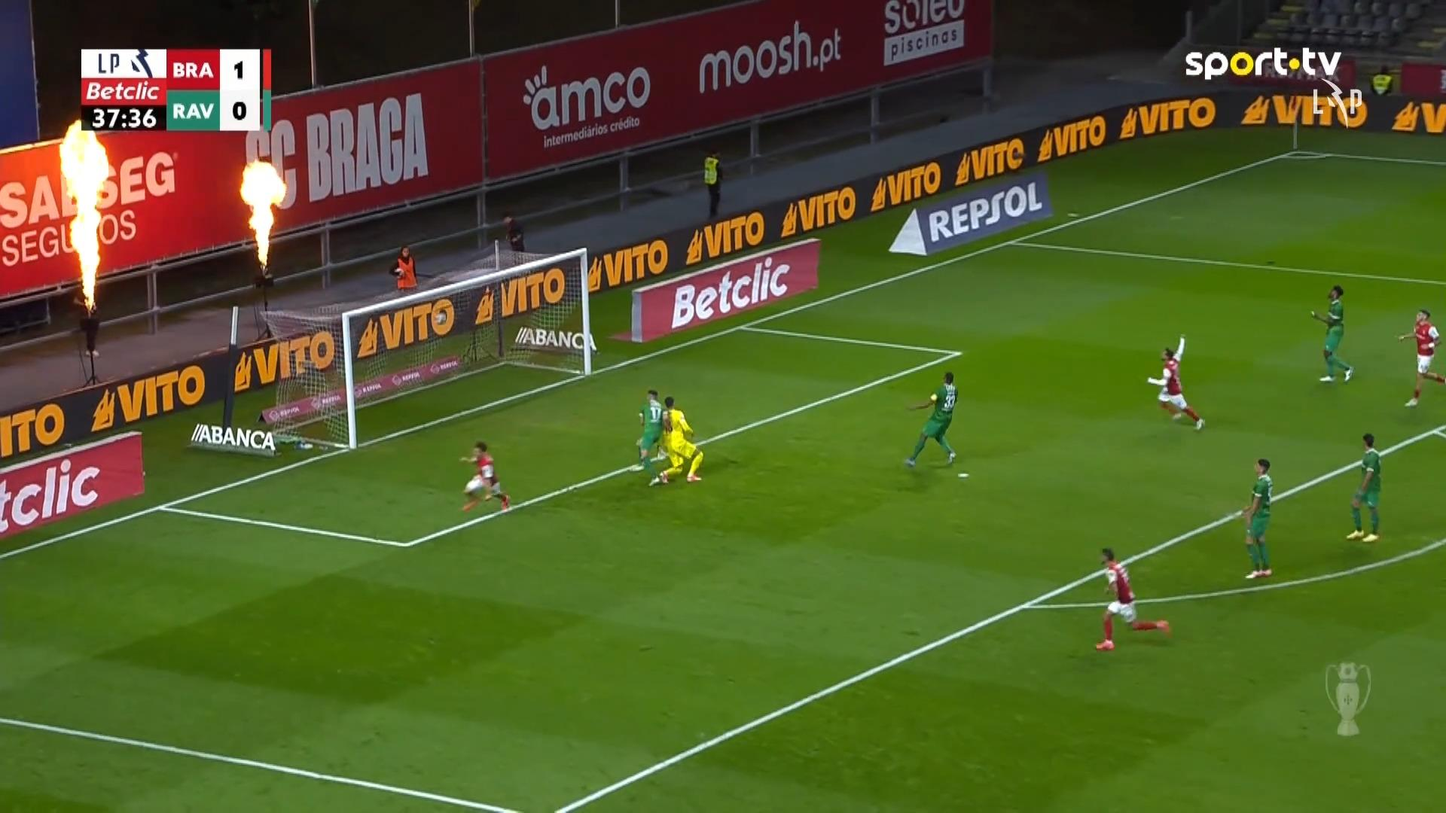ball: (435, 312, 447, 325)
goalkeeper: (650, 395, 703, 485)
player: (1094, 547, 1170, 651), (1146, 336, 1205, 431), (904, 370, 958, 467), (1396, 309, 1444, 406), (1309, 284, 1353, 382), (1240, 458, 1274, 578), (1345, 432, 1381, 542), (459, 440, 511, 513), (627, 388, 669, 473)
